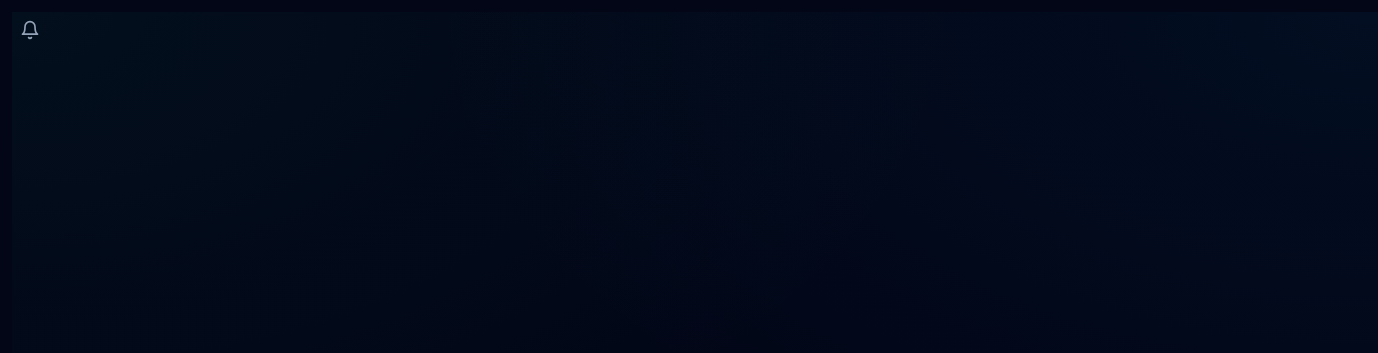
Test: NotificationBell — open popover › renders notification titles in list
Click the button named "Notifications" at (30, 30), box [12,12,48,48]
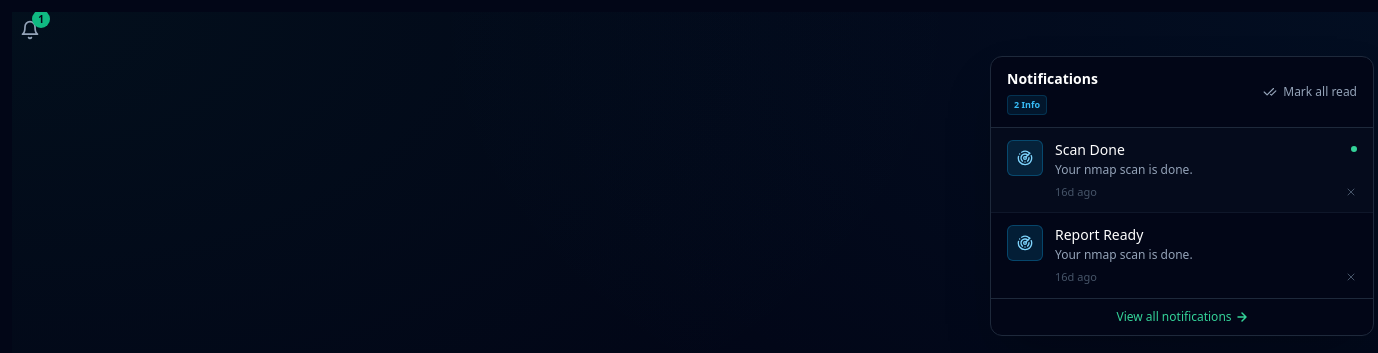
expect the text "Scan Done" is shown: met, box [1055,140,1125,158]
expect the text "Report Ready" is shown: met, box [1055,225,1143,244]
